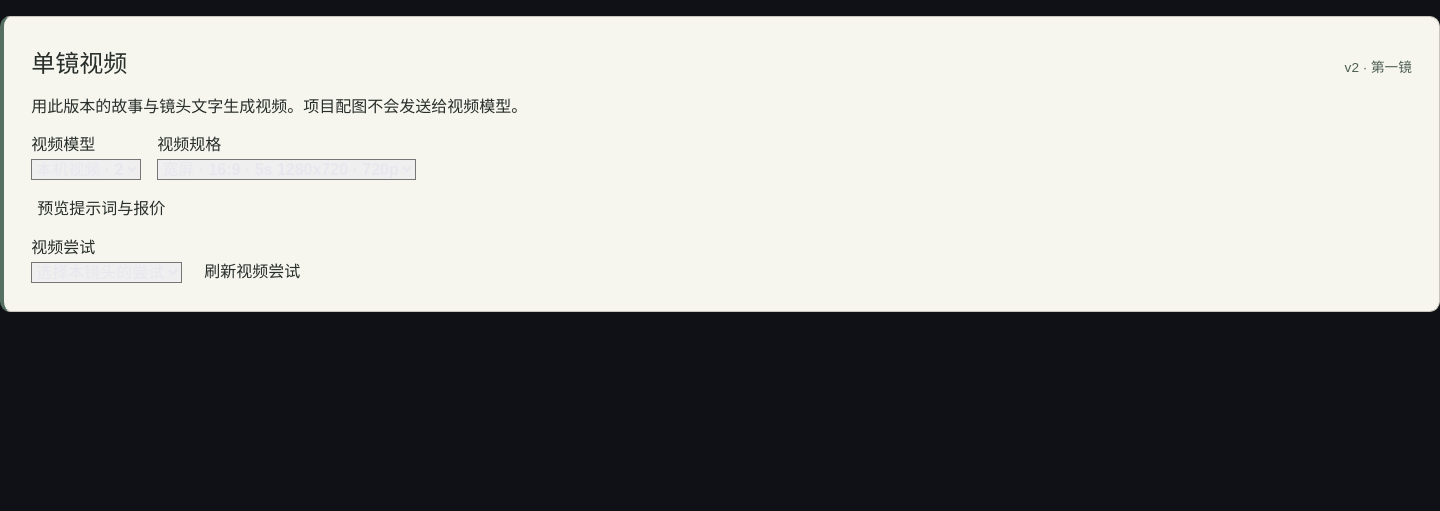
Test: blocks a second generation or a write that cannot first retain its original key
The image size is (1440, 511).
Later steps or results of the test are not shown.
Click the button "预览提示词与报价": (101, 207) [31,194,171,220]
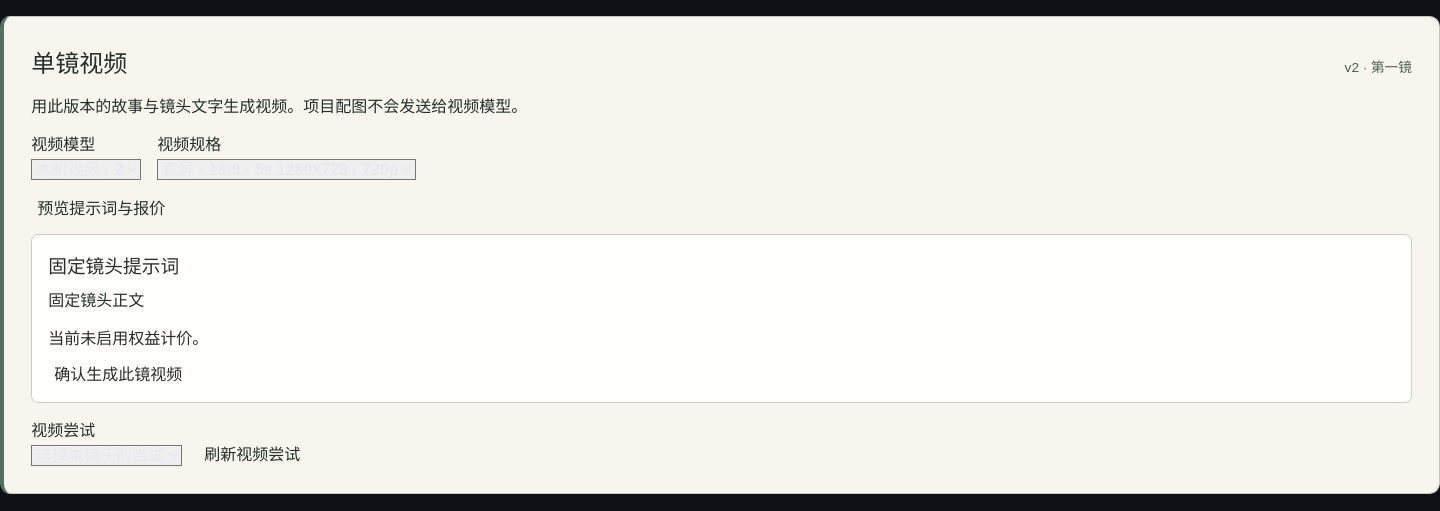
expect the button "确认生成此镜视频" is shown: met, box [48,360,188,386]
